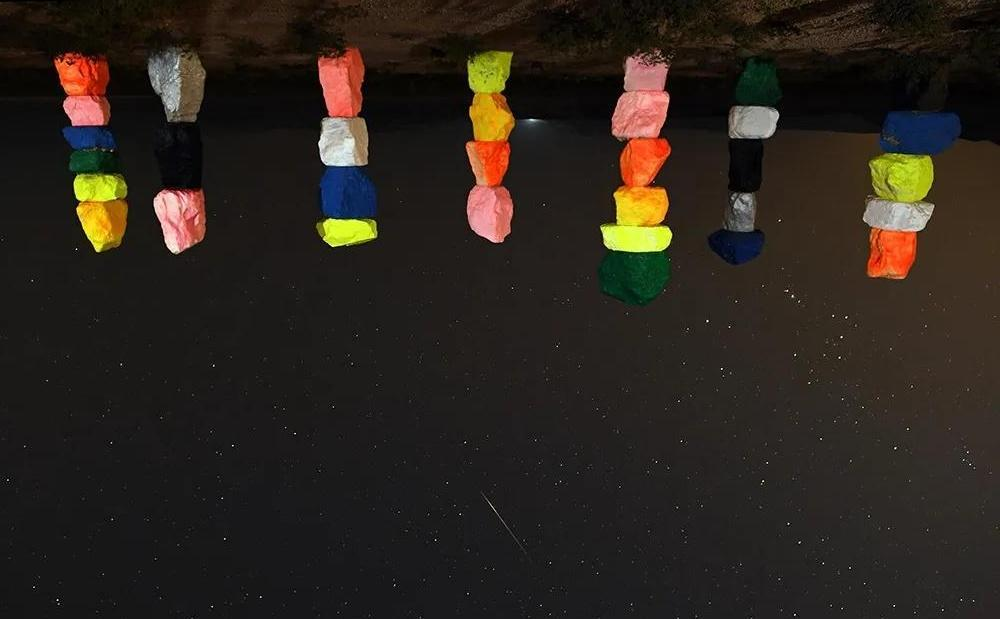meteorite: (453, 489, 551, 556)
